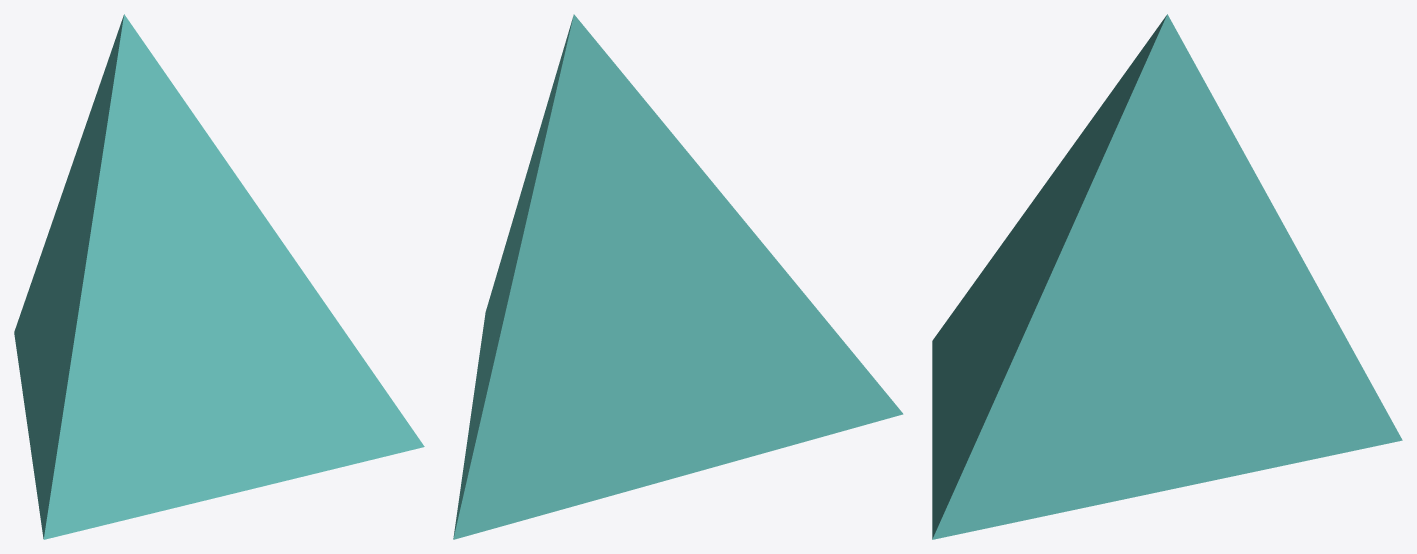
The model's file is demo.glb.
3 views of the same model, side by side, from view 1: azimuth 30°, elevation 25°; view 2: azimuth 150°, elevation 25°; view 3: azimuth 270°, elevation 25° (orthographic). The views are drawn at different scales.
Bounding box in the file's own units: 2 × 2 × 2.
